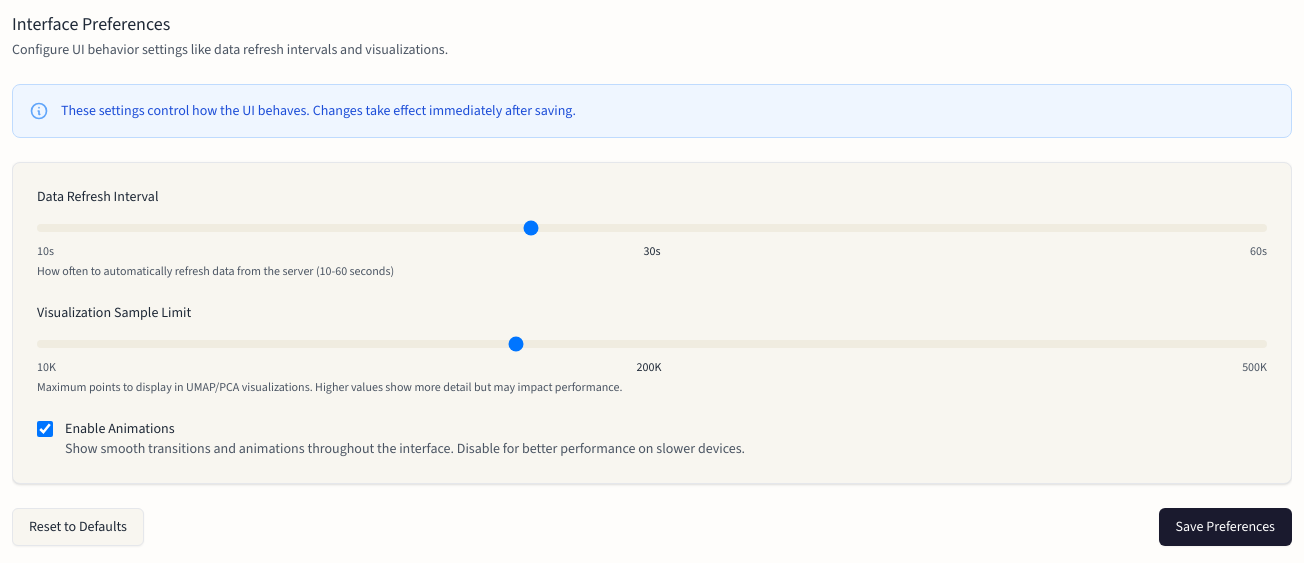
Test: InterfaceSettings › updates form state when data refresh interval slider changes
# Change to 45 seconds
Set the 1st slider to "45" at (895, 228), box x1=37 y1=224 x2=1267 y2=232
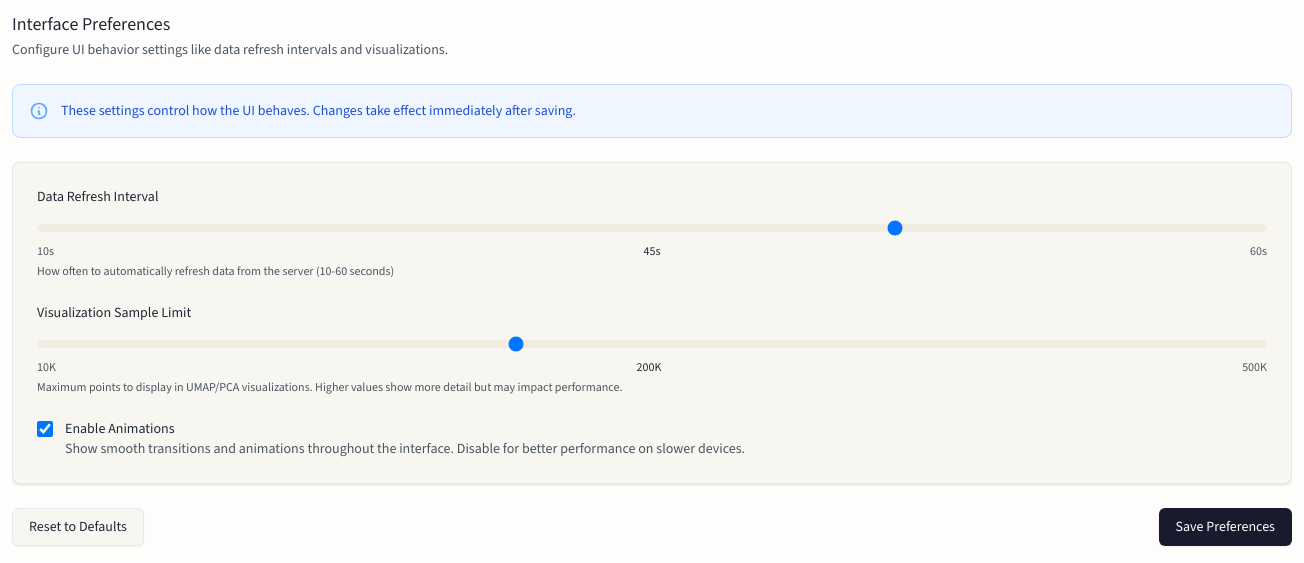
Check: the text "45s" is shown, box x1=644 y1=243 x2=660 y2=259
